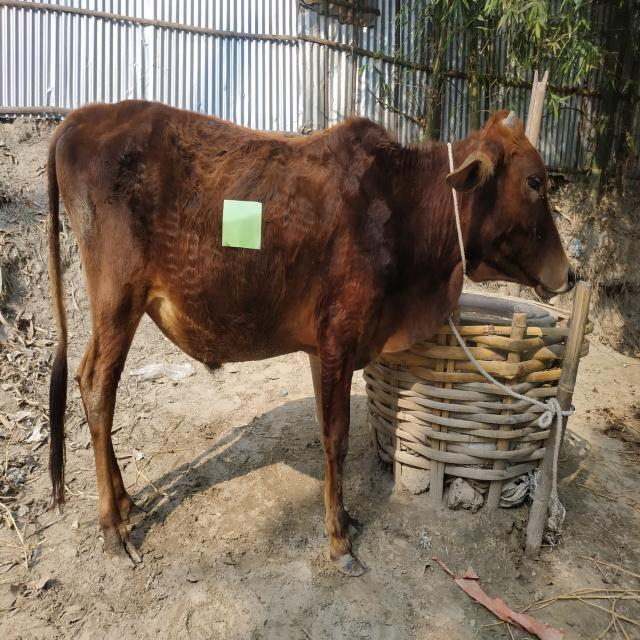badan_sapi: (89, 110, 364, 365)
sapi: (37, 96, 586, 582)
